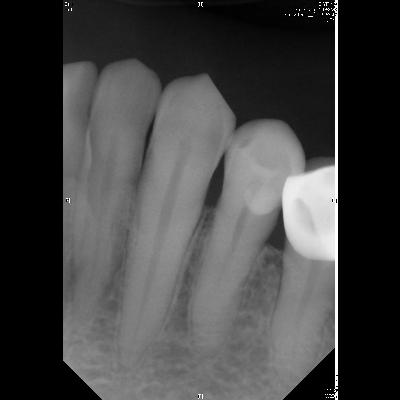tooth: (112, 70, 238, 372), (186, 117, 306, 361), (69, 55, 163, 323)
